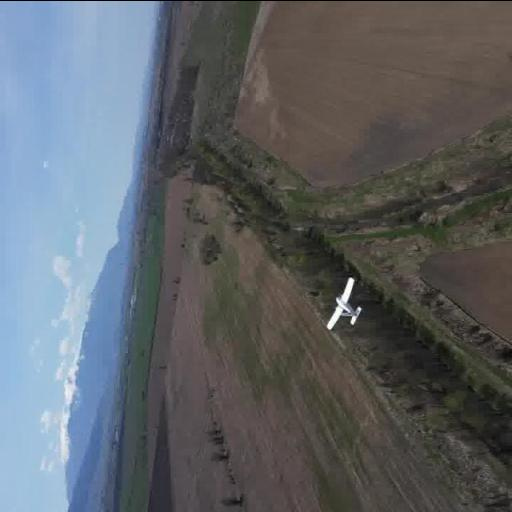uav: (320, 273, 374, 331)
